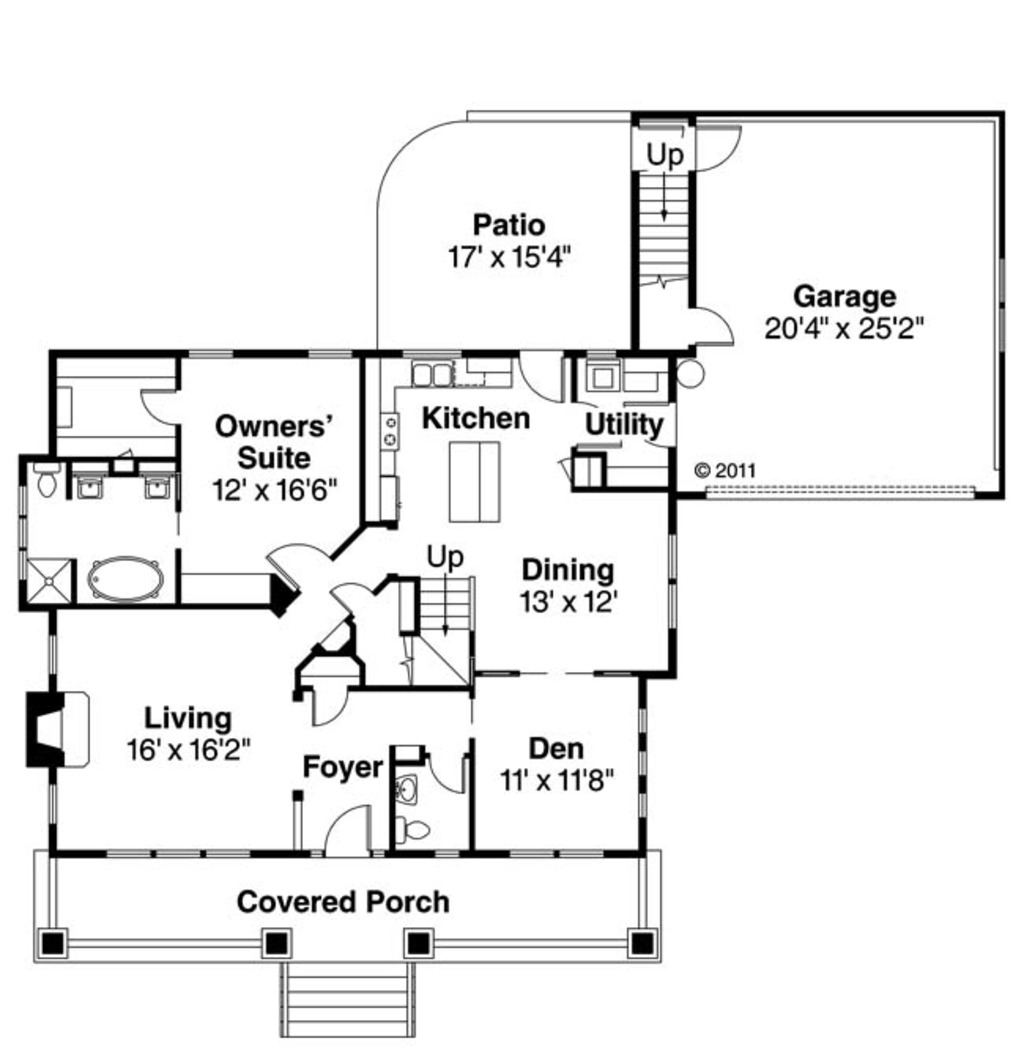door: (318, 794, 381, 860), (265, 547, 339, 590), (320, 579, 393, 621), (136, 387, 197, 434), (691, 123, 747, 174), (423, 752, 472, 810), (689, 302, 755, 345), (575, 398, 626, 453), (299, 684, 357, 732), (515, 353, 567, 403)
kitchen_bar: (441, 431, 525, 542)
large_sink: (383, 800, 436, 850), (28, 458, 75, 511)
small_sink: (68, 465, 176, 507), (384, 763, 425, 803)
stairs: (276, 940, 440, 1052), (630, 166, 715, 311), (407, 579, 486, 689)
tub: (81, 552, 181, 605)
twin_sink: (402, 355, 486, 410)
window: (173, 334, 260, 371), (660, 529, 686, 632), (36, 763, 67, 824), (301, 334, 355, 368), (509, 842, 594, 861)
